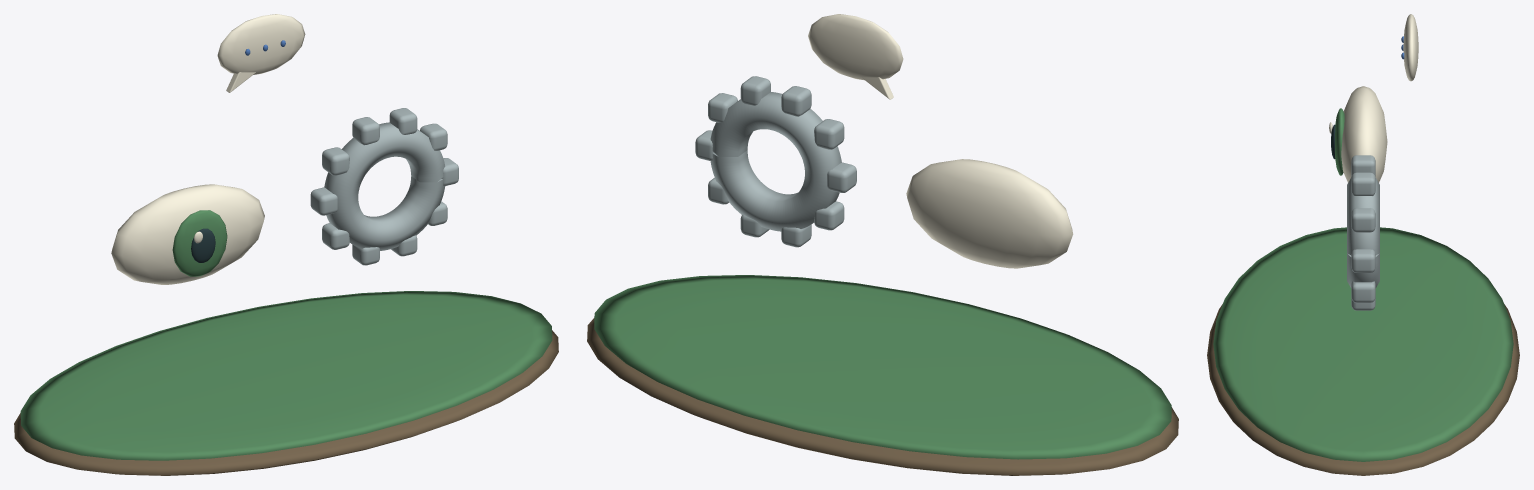
File: complete-third-view-method.glb
3 views of the same model, side by side, from view 1: azimuth 30°, elevation 25°; view 2: azimuth 150°, elevation 25°; view 3: azimuth 270°, elevation 25° (orthographic). The views are drawn at different scales.
Parts seen in each view (by area): view 1: complete-third-view-method_surface_01, complete-third-view-method_surface_04, complete-third-view-method_surface_02, complete-third-view-method_surface_00, complete-third-view-method_surface_03; view 2: complete-third-view-method_surface_01, complete-third-view-method_surface_02, complete-third-view-method_surface_04, complete-third-view-method_surface_00; view 3: complete-third-view-method_surface_01, complete-third-view-method_surface_00, complete-third-view-method_surface_04, complete-third-view-method_surface_02.
Boxes of the visible parts, bbox=[...] form: complete-third-view-method_surface_01: bbox=[20, 210, 552, 460]; complete-third-view-method_surface_04: bbox=[310, 108, 458, 265]; complete-third-view-method_surface_02: bbox=[111, 14, 305, 284]; complete-third-view-method_surface_00: bbox=[14, 330, 558, 475]; complete-third-view-method_surface_03: bbox=[191, 228, 215, 262]; complete-third-view-method_surface_01: bbox=[594, 275, 1171, 459]; complete-third-view-method_surface_02: bbox=[808, 14, 1073, 268]; complete-third-view-method_surface_04: bbox=[695, 76, 856, 247]; complete-third-view-method_surface_00: bbox=[587, 318, 1178, 475]; complete-third-view-method_surface_01: bbox=[1213, 108, 1513, 461]; complete-third-view-method_surface_00: bbox=[1207, 304, 1519, 475]; complete-third-view-method_surface_04: bbox=[1347, 155, 1379, 310]; complete-third-view-method_surface_02: bbox=[1329, 14, 1418, 182].
Bounding box in the file's own units: 4.56 × 3.08 × 2.5.
